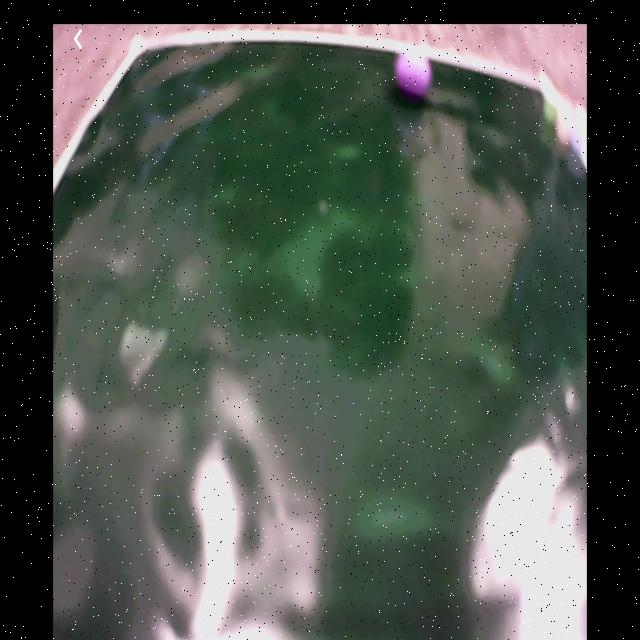ball: (396, 50, 435, 98)
